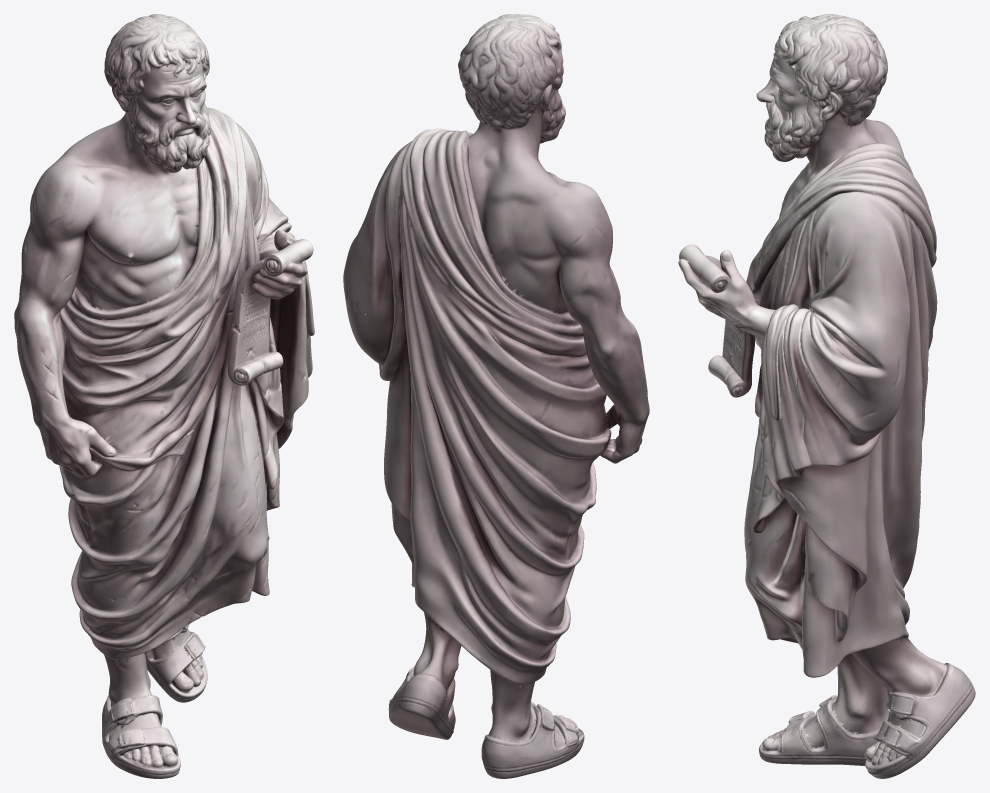
The model's file is statue_philosopher.glb.
The picture shows the model from 3 angles, left to right: view 1: azimuth 30°, elevation 25°; view 2: azimuth 150°, elevation 25°; view 3: azimuth 270°, elevation 25°; orthographic projection. The views are drawn at different scales.
Visible parts, largest first — view 1: tripo_node_fe5edd09-a177-4e37-ad65-8b9a250b7bdf; view 2: tripo_node_fe5edd09-a177-4e37-ad65-8b9a250b7bdf; view 3: tripo_node_fe5edd09-a177-4e37-ad65-8b9a250b7bdf.
Boxes of the visible parts, x1,y1,x2,y2 form: tripo_node_fe5edd09-a177-4e37-ad65-8b9a250b7bdf: (14,14,314,778); tripo_node_fe5edd09-a177-4e37-ad65-8b9a250b7bdf: (343,14,649,778); tripo_node_fe5edd09-a177-4e37-ad65-8b9a250b7bdf: (678,14,975,778).
Bounding box in the file's own units: 0.3897 × 0.9795 × 0.353.
1 material, 1 textured.
